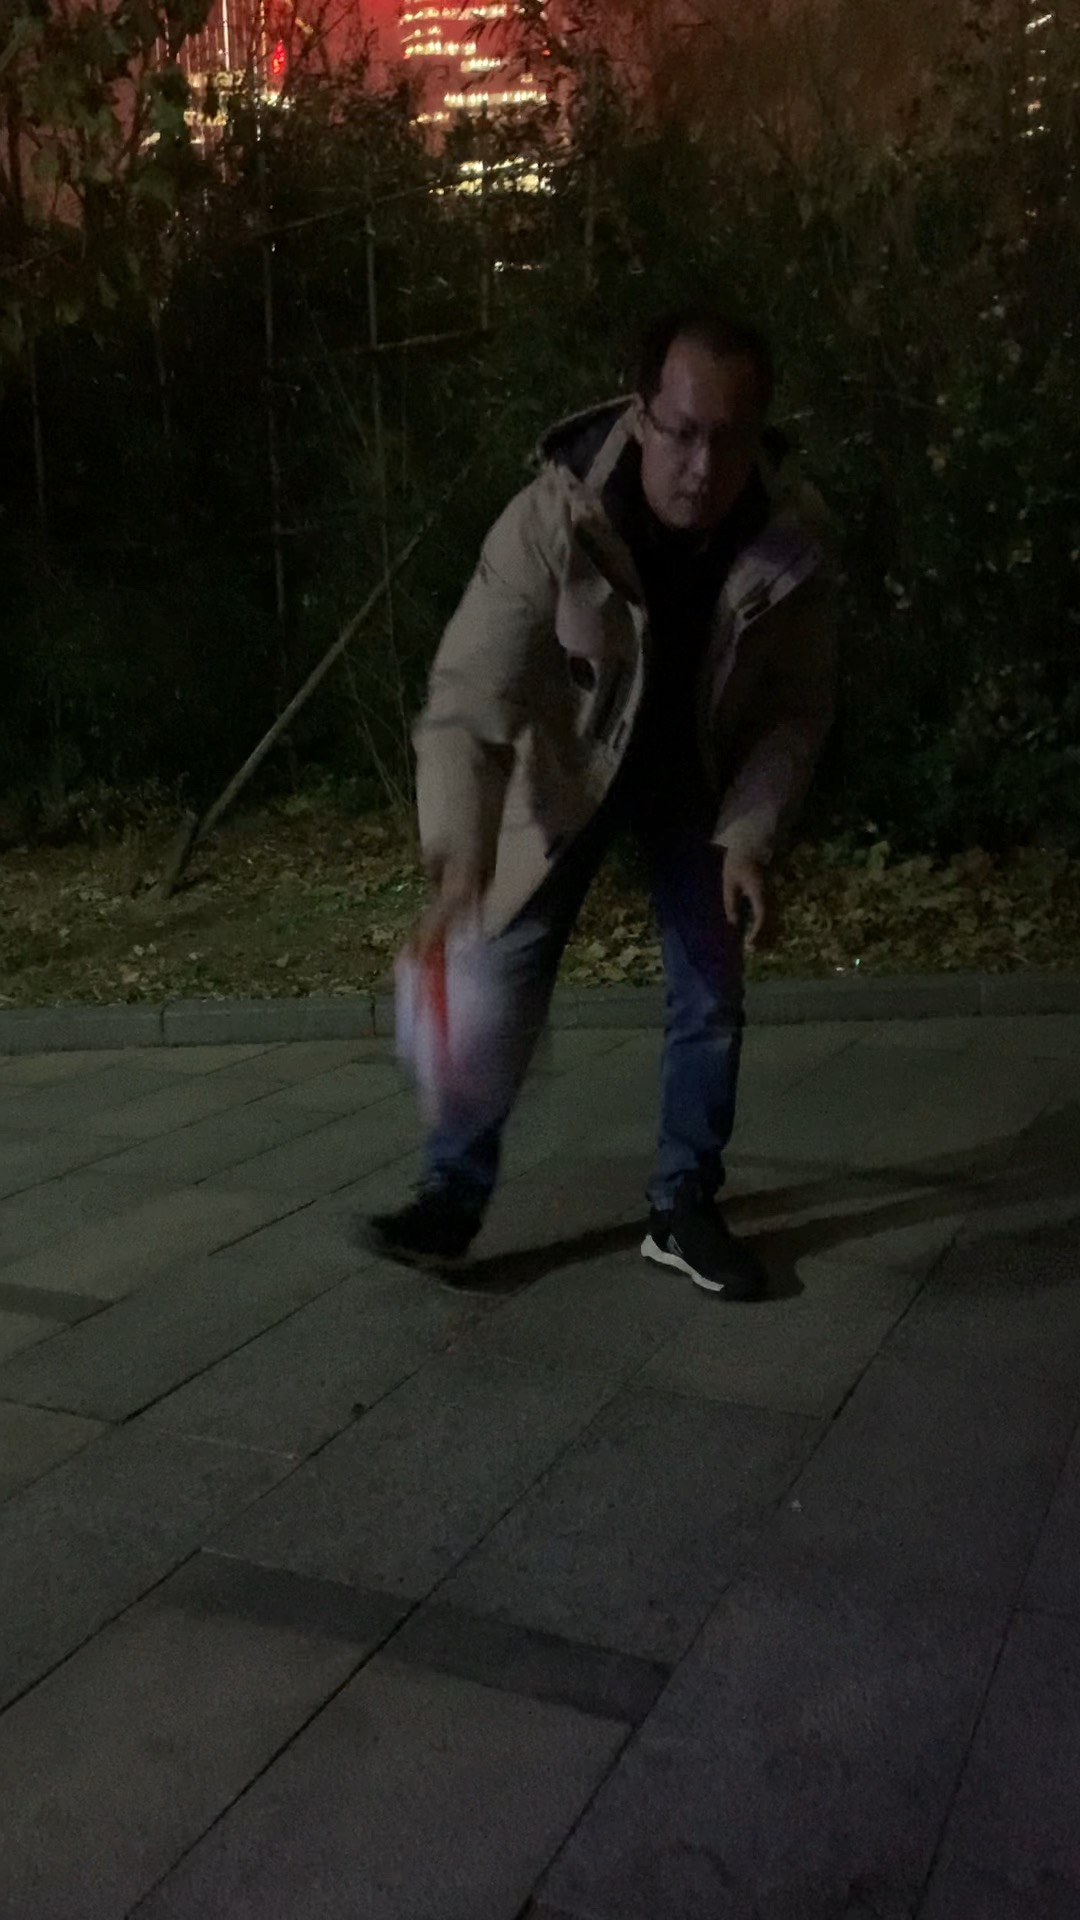ball: (381, 924, 550, 1112)
